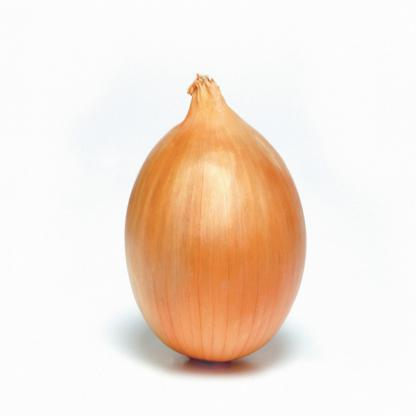onion: (130, 88, 304, 374)
